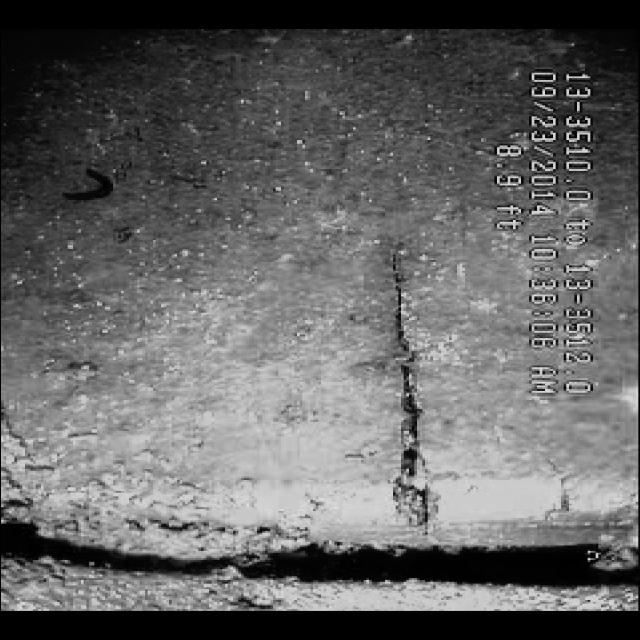Crack: (306, 263, 477, 542)
